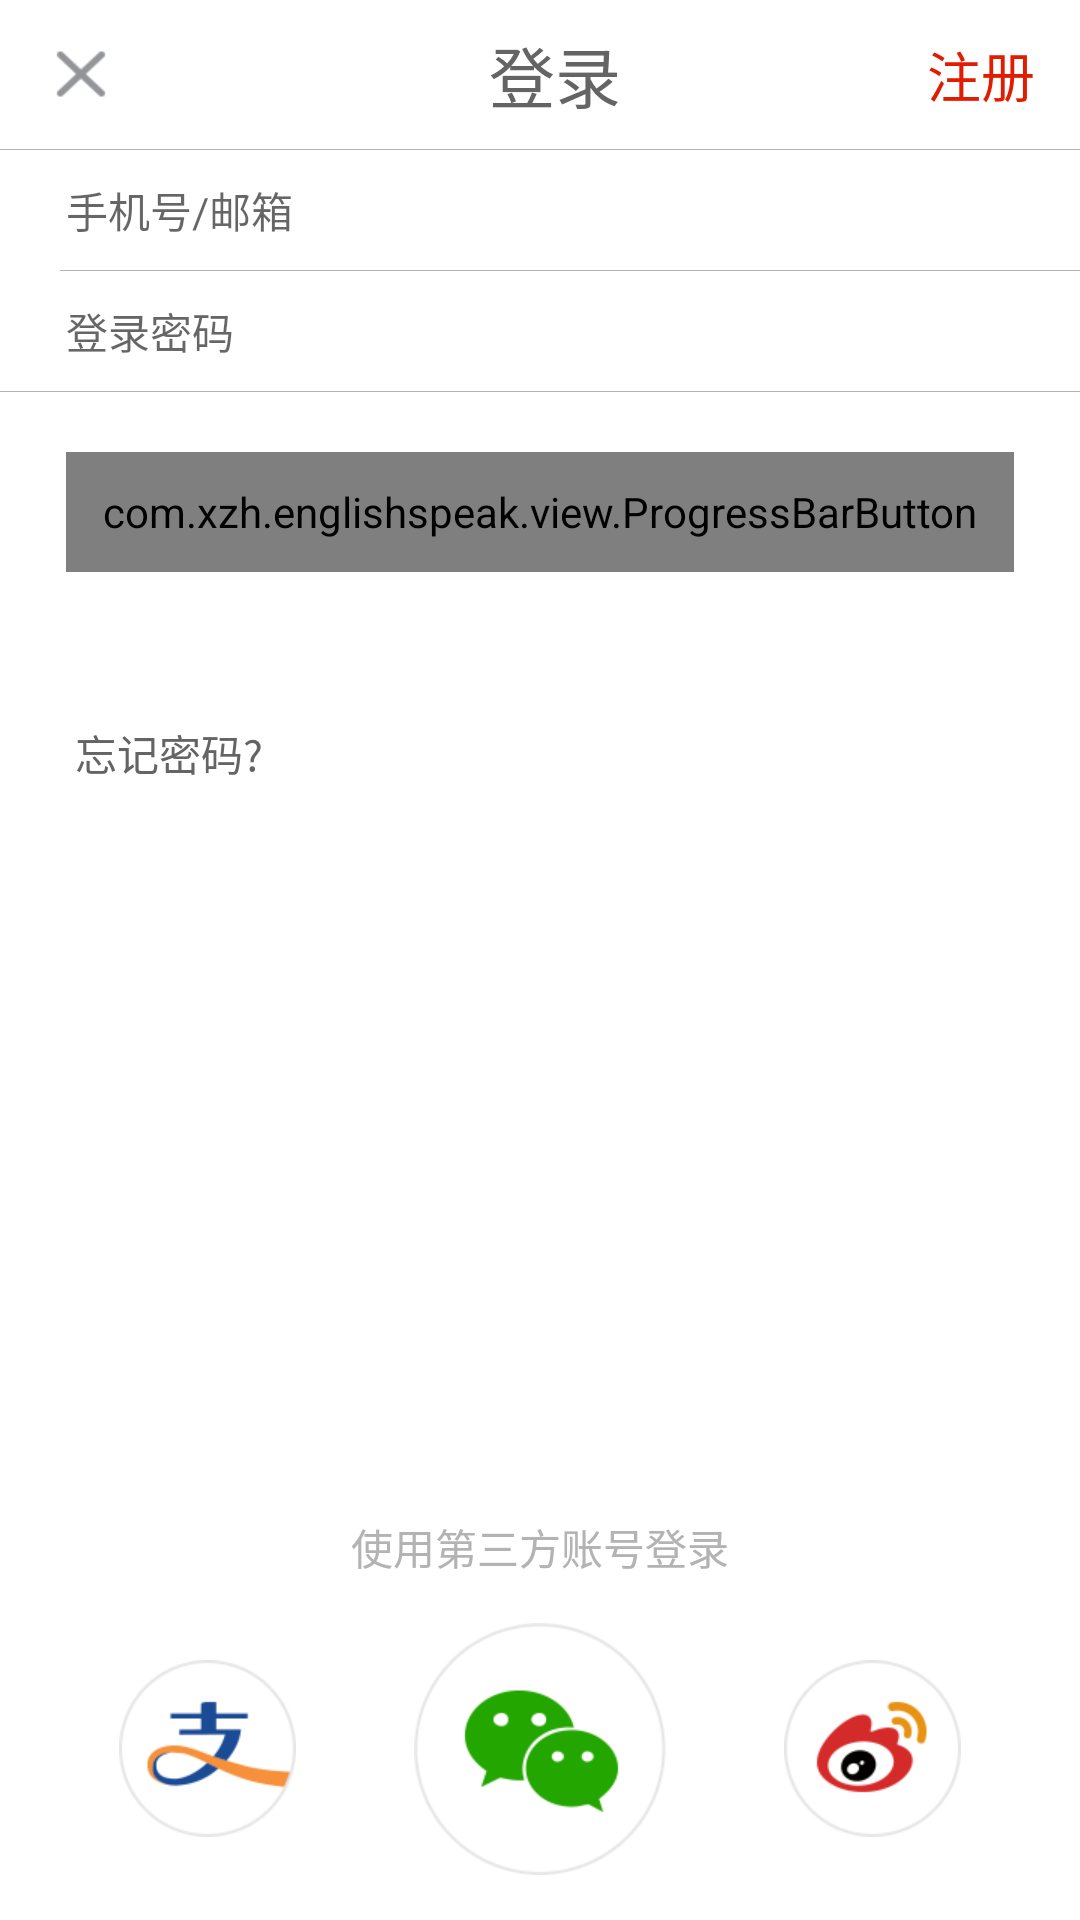

Icons on this 1080px×1920px Android screen, each with the point to tap as (x,y):
close: (81,74)
